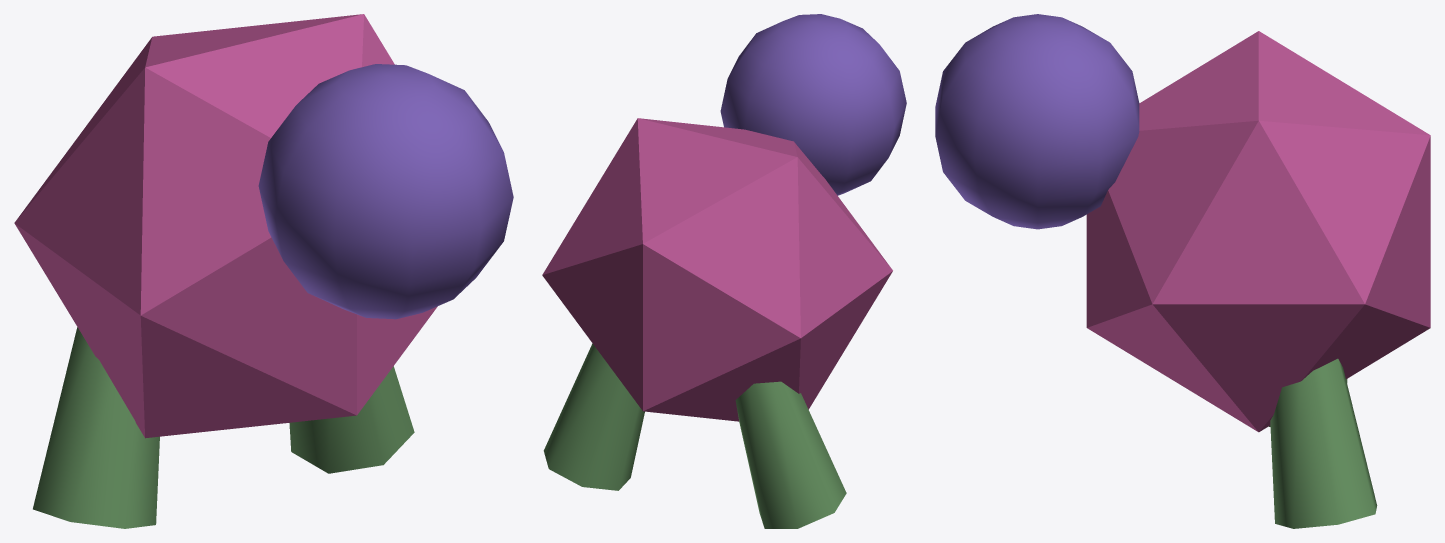
File: cap_frog.glb
The picture shows the model from 3 angles, left to right: view 1: azimuth 30°, elevation 25°; view 2: azimuth 150°, elevation 25°; view 3: azimuth 270°, elevation 25°; orthographic projection. The views are drawn at different scales.
Visible parts, largest first — view 1: body_core, head_core, spring_-1, spring_1; view 2: body_core, head_core, spring_-1, spring_1; view 3: body_core, head_core, spring_1.
Part boxes in pixels (x1,y1,x2,y2): body_core: [14, 14, 437, 438]; head_core: [258, 64, 513, 319]; spring_-1: [33, 327, 159, 528]; spring_1: [289, 366, 414, 473]; body_core: [542, 118, 892, 421]; head_core: [720, 14, 906, 195]; spring_-1: [735, 381, 846, 528]; spring_1: [543, 343, 644, 490]; body_core: [1086, 31, 1430, 432]; head_core: [935, 14, 1139, 229]; spring_1: [1270, 358, 1377, 528].
Size of what is drawn, in the model's own units: 1.38 by 1.84 by 1.84.
